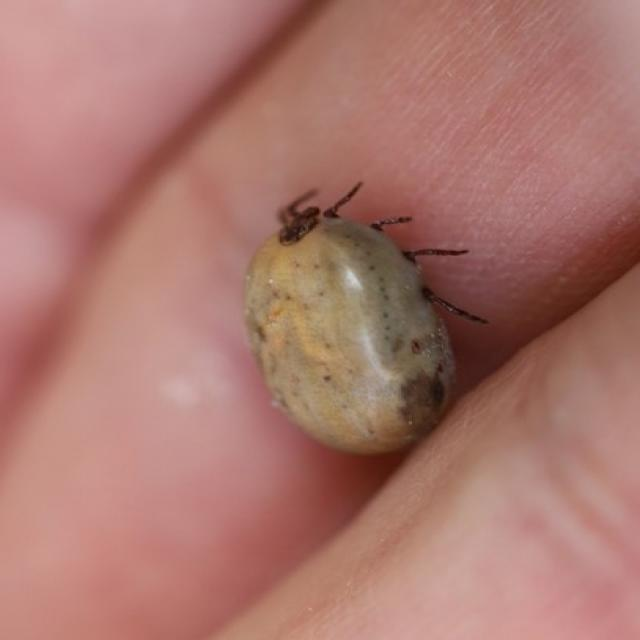Dermacentor Reticulatus-F-Fed: (241, 183, 487, 460)
